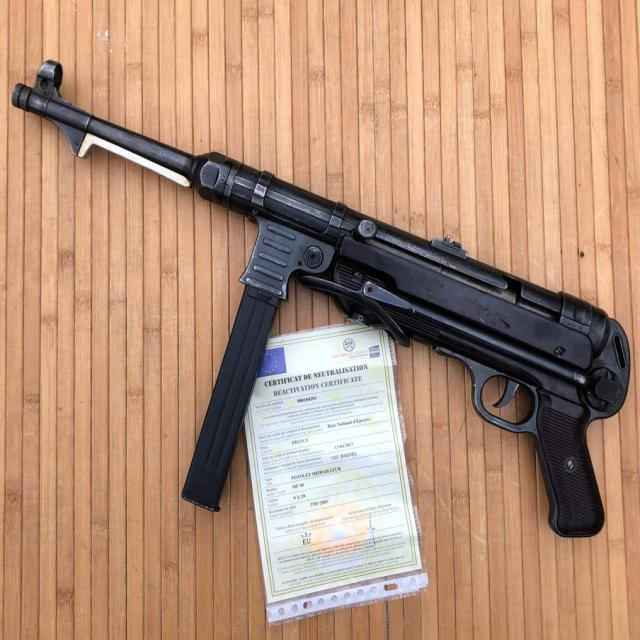SMG: (13, 61, 632, 541)
